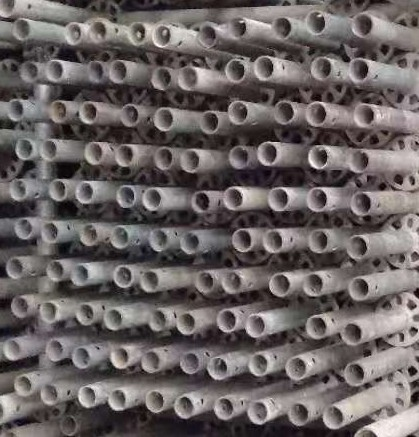circle_steel: (351, 101, 378, 131), (303, 8, 329, 38), (271, 97, 296, 128), (346, 56, 371, 86), (304, 99, 329, 129), (269, 14, 294, 42), (349, 12, 374, 40), (308, 55, 333, 83), (266, 271, 291, 299), (195, 21, 219, 50), (46, 98, 70, 126), (306, 143, 330, 171), (266, 185, 290, 213), (229, 225, 253, 253), (125, 19, 148, 48), (346, 146, 369, 175), (86, 16, 108, 46), (341, 361, 366, 387), (152, 106, 176, 133), (225, 99, 249, 126), (349, 190, 373, 217), (347, 276, 371, 303), (172, 393, 196, 420), (224, 57, 247, 85), (117, 101, 140, 129), (257, 140, 280, 168), (320, 405, 345, 430), (18, 59, 42, 85), (76, 99, 100, 125), (198, 109, 222, 135), (139, 349, 163, 375), (149, 65, 172, 92), (82, 140, 105, 167), (346, 234, 369, 261), (108, 58, 130, 86), (253, 56, 275, 84), (226, 145, 250, 170), (177, 351, 201, 376), (261, 227, 284, 253), (214, 307, 237, 333), (43, 337, 66, 363), (287, 401, 310, 427), (222, 184, 244, 211), (147, 226, 169, 253), (302, 271, 324, 298), (150, 23, 174, 47), (304, 315, 328, 339), (112, 143, 135, 168), (305, 186, 328, 211), (73, 301, 96, 326), (284, 356, 307, 381), (62, 21, 84, 47), (45, 58, 67, 84), (84, 59, 106, 85), (114, 183, 136, 209), (77, 222, 99, 248), (244, 312, 266, 338), (340, 320, 362, 346), (108, 344, 130, 370), (106, 386, 128, 412), (226, 14, 247, 41), (74, 179, 95, 206), (13, 215, 34, 242), (178, 228, 199, 255), (308, 228, 329, 255), (112, 262, 133, 289), (76, 383, 97, 410), (247, 399, 268, 426), (212, 396, 235, 420), (10, 17, 32, 42), (47, 177, 69, 202), (190, 189, 212, 214), (138, 268, 160, 293), (220, 269, 242, 294), (206, 355, 228, 380), (144, 389, 166, 414), (178, 65, 199, 91), (180, 147, 201, 173), (9, 177, 30, 203), (141, 186, 162, 212), (147, 307, 168, 333), (39, 381, 60, 407), (44, 257, 64, 284), (12, 137, 35, 160), (248, 352, 270, 376), (194, 269, 215, 294), (6, 96, 26, 122), (39, 219, 59, 245), (109, 223, 129, 249), (4, 255, 24, 281), (69, 262, 89, 288), (9, 294, 30, 318), (38, 299, 59, 323), (12, 374, 33, 398), (39, 137, 59, 162), (153, 145, 173, 170), (176, 311, 196, 336), (103, 307, 123, 331), (2, 338, 22, 361), (71, 344, 90, 368), (1, 1, 15, 19), (353, 428, 379, 437)
